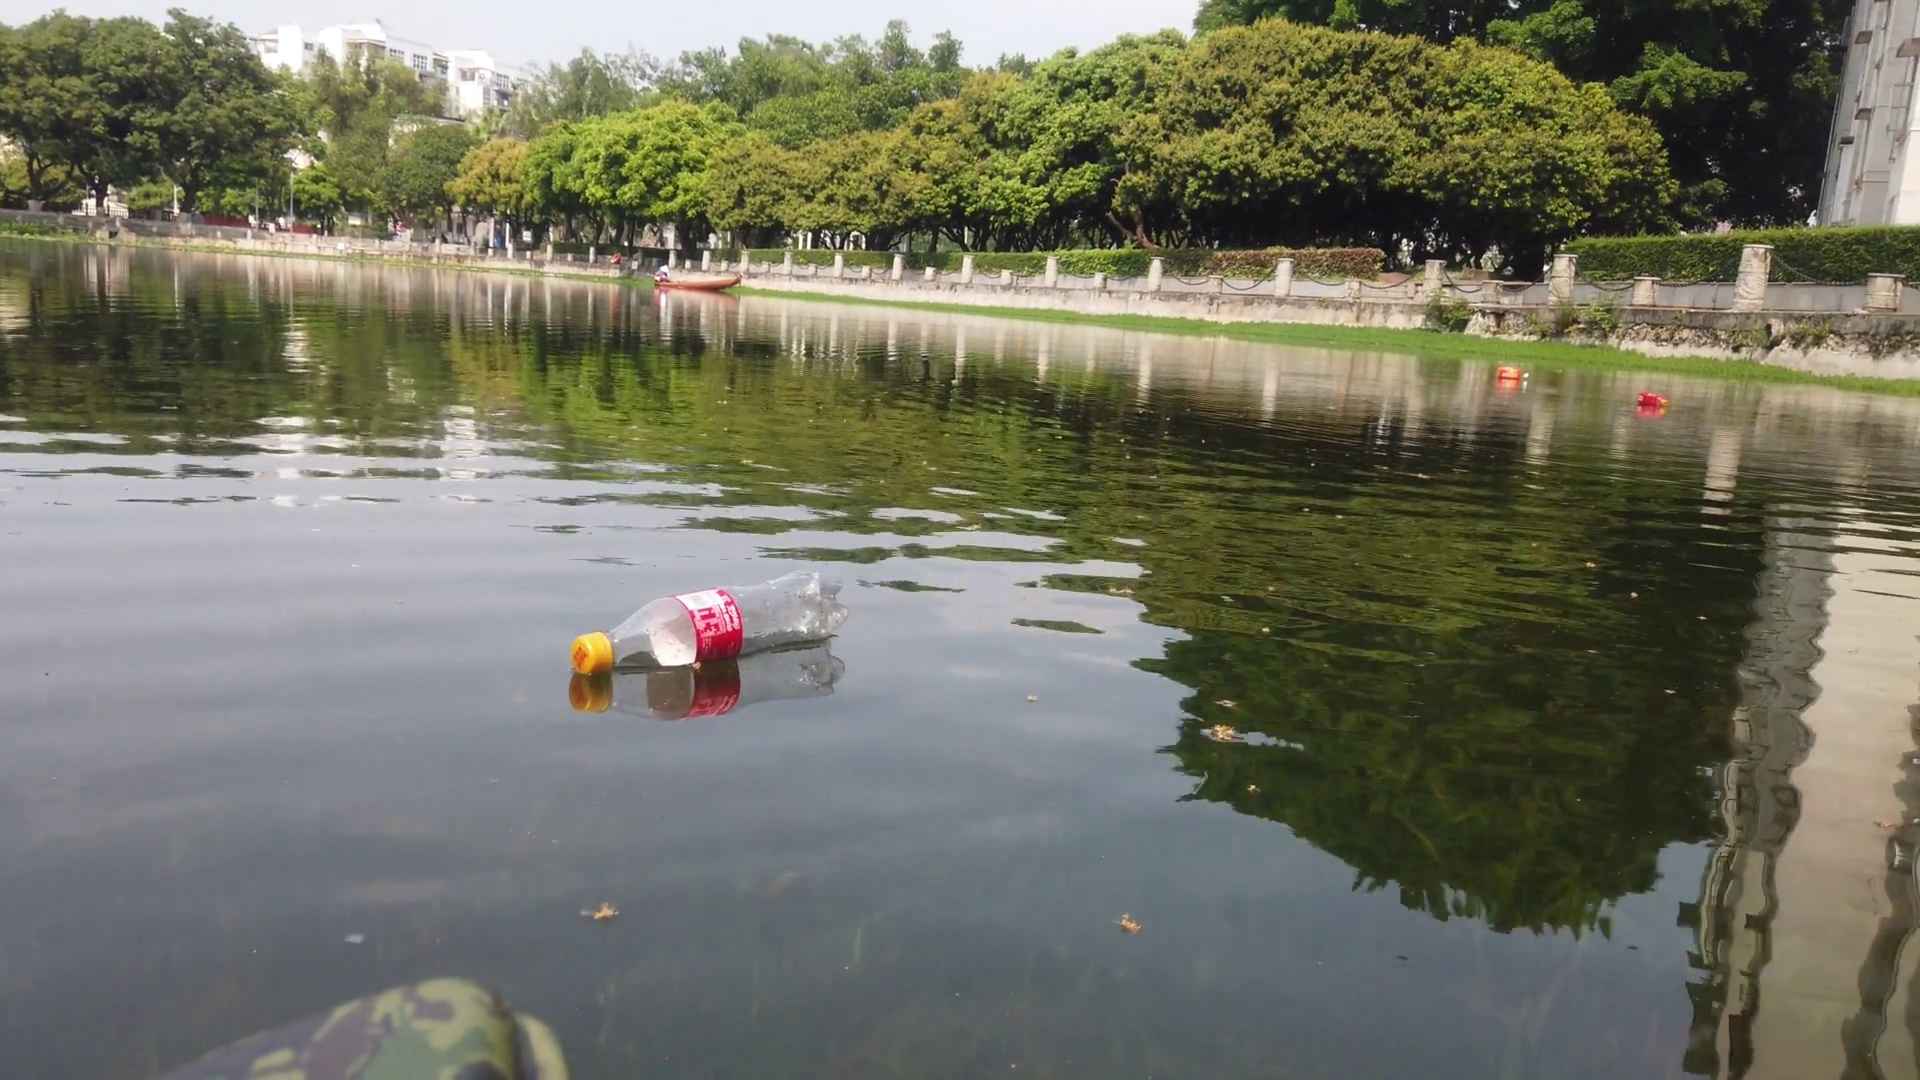bottle: (571, 572, 845, 674), (1636, 389, 1673, 407), (1495, 365, 1534, 382)
